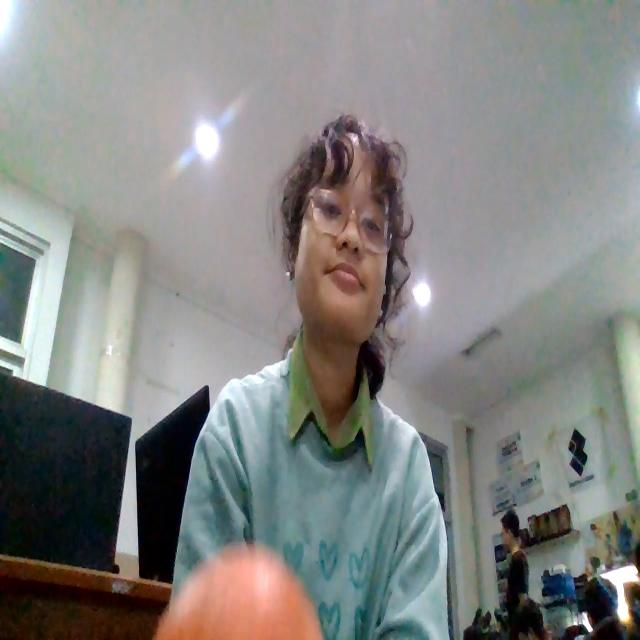ball: (152, 546, 326, 640)
